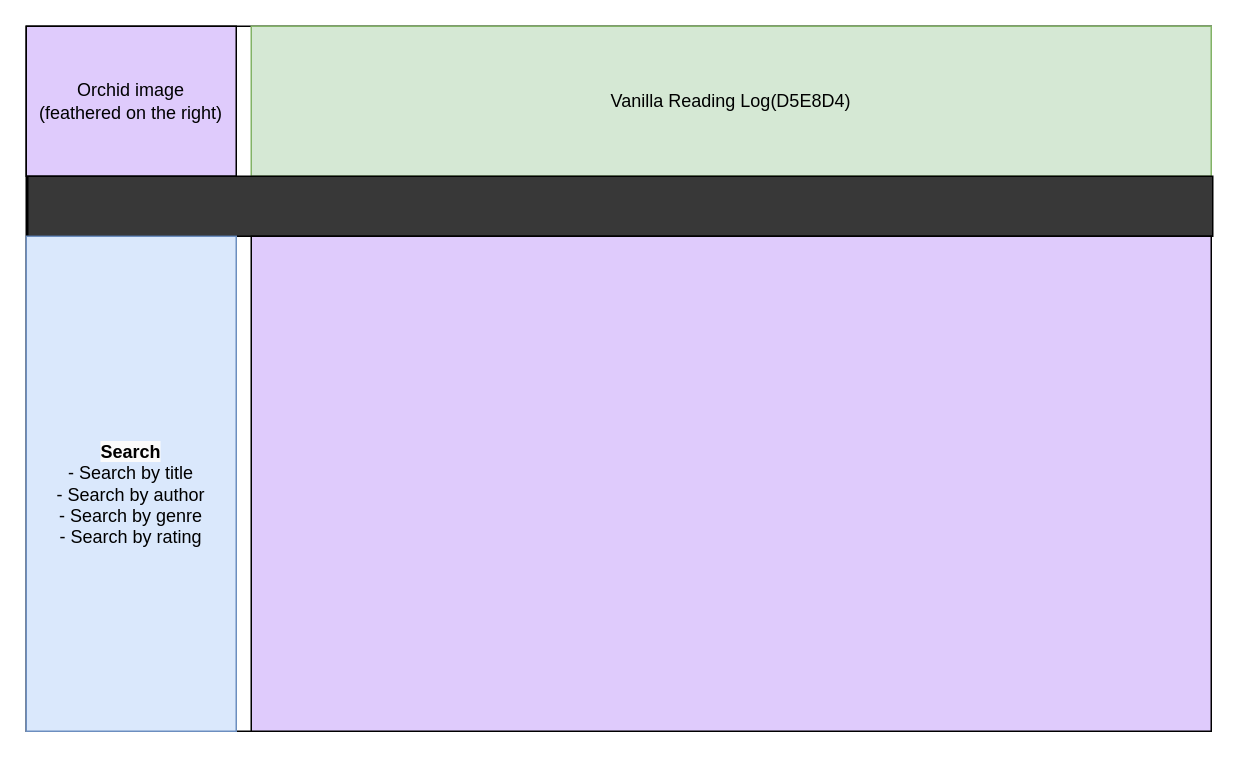
This 1239x758 diagram has some shape labels left out. The centre of each missing label's shape, as x and y in pixels:
"dfcbfc" belongs at (x=730, y=483).
"Home | Contact" belongs at (x=619, y=205).
